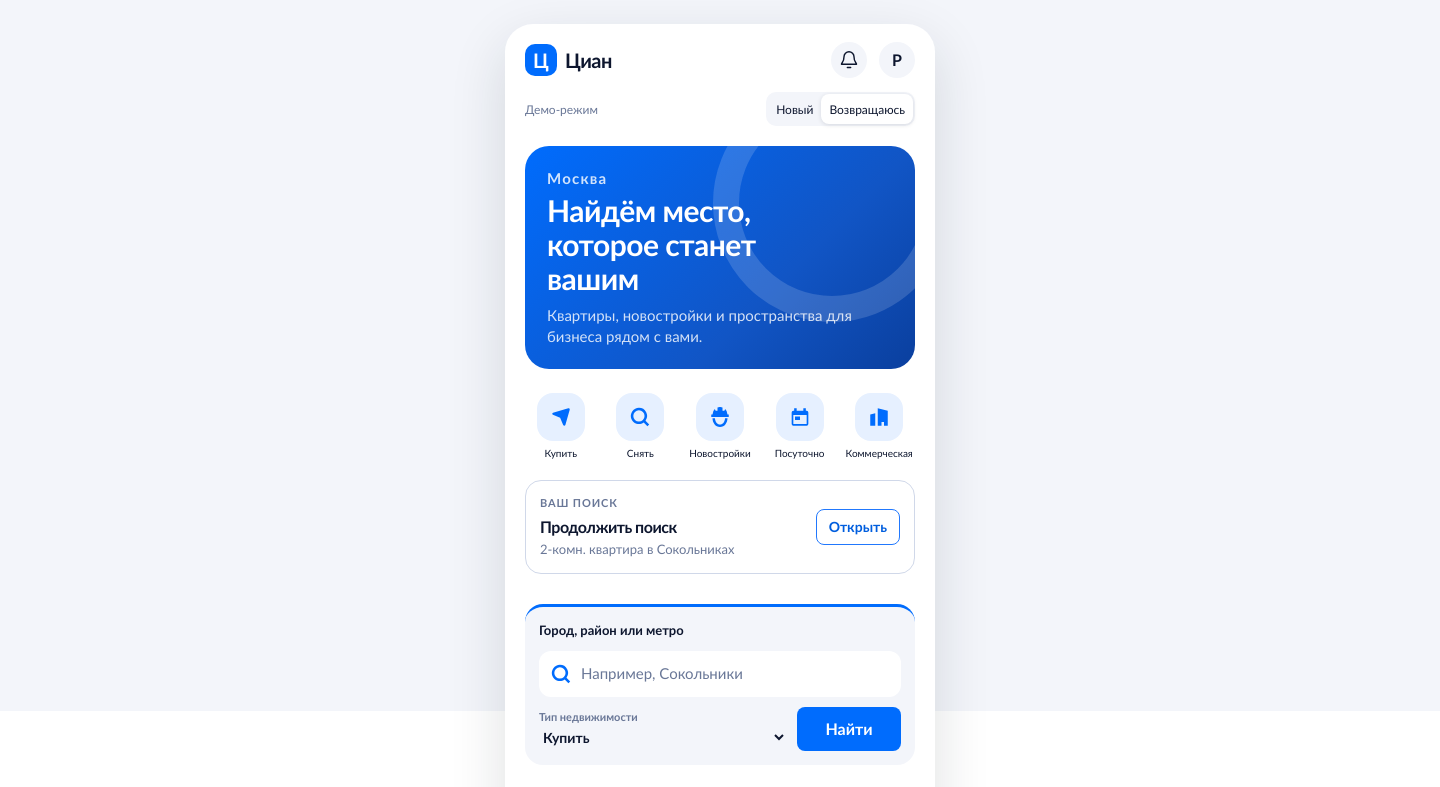
Test case: mobile home prototype › does not record views or actions from embedded map previews
What coordinates should you click on to do the following:
click the button "Открыть"
I would click on:
 (858, 527)
Its box is top-left (816, 509), bottom-right (900, 545).
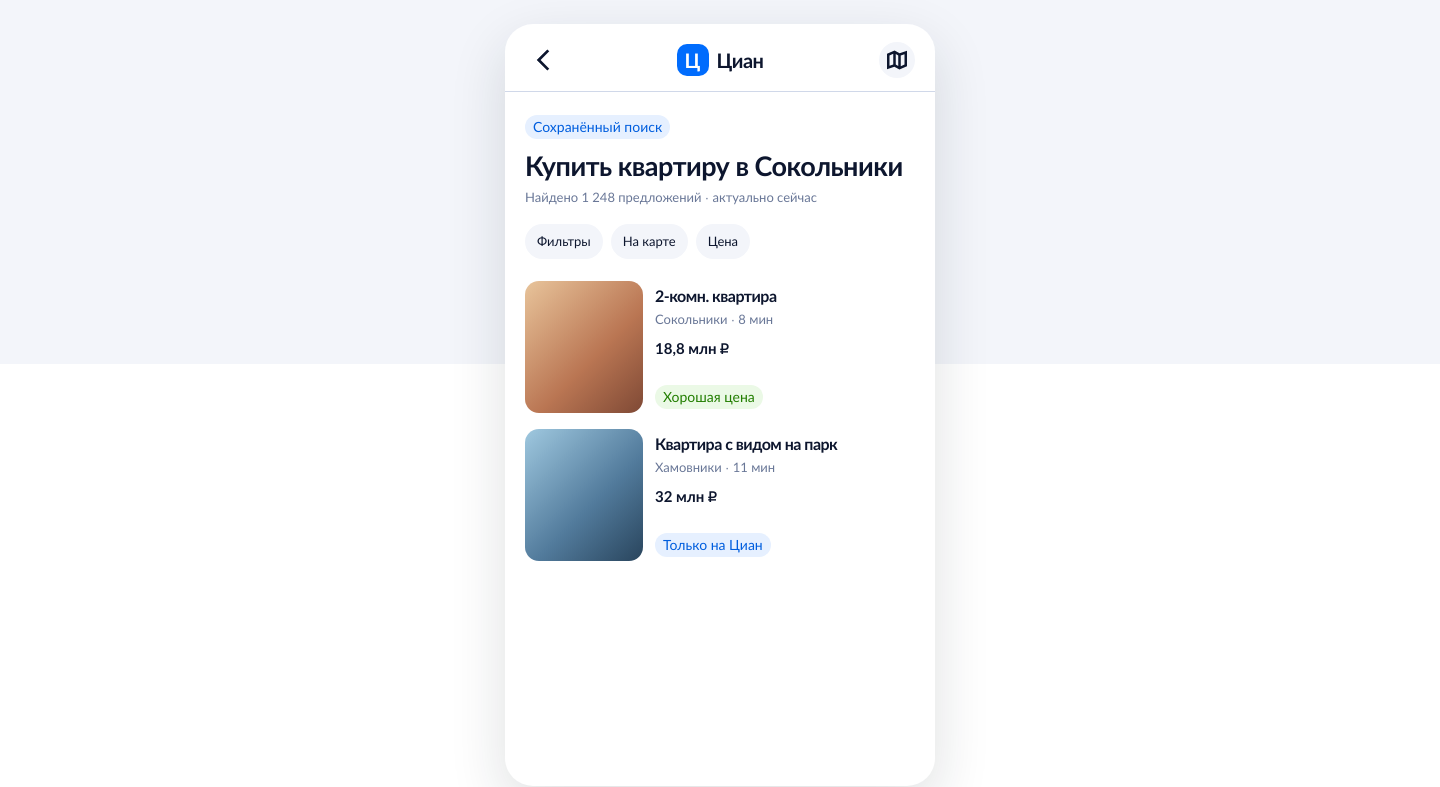
expect the heading "Купить квартиру в Сокольники" is shown: met, box top-left (525, 149), bottom-right (915, 182)
